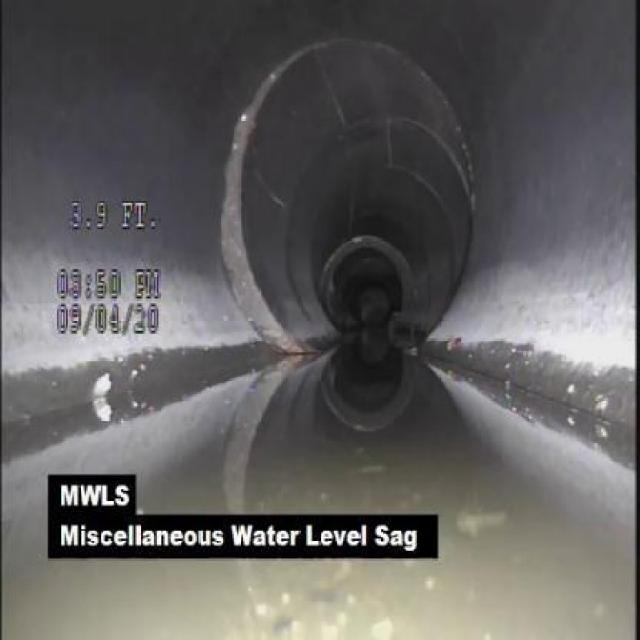Joint offset: (208, 246, 295, 349), (216, 108, 258, 245)
